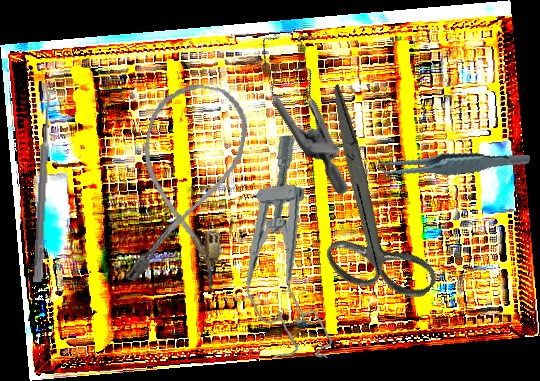Cannula: (119, 76, 254, 297)
Iris Scissors: (241, 81, 493, 329)
Speculum: (215, 12, 409, 198), (230, 133, 335, 366)
Surgical Spoon: (33, 83, 54, 283)
Tissue Forceps: (372, 128, 531, 198)
